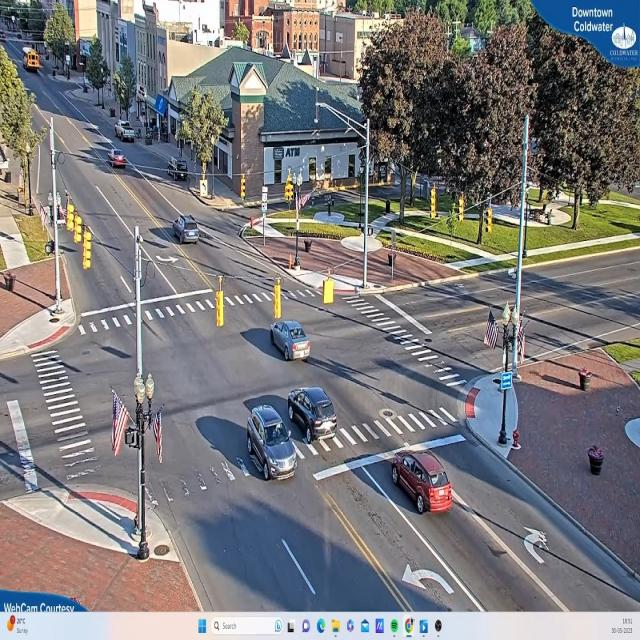car: (244, 399, 298, 480), (391, 452, 457, 516), (288, 387, 338, 442), (272, 320, 312, 362), (173, 216, 201, 244), (117, 121, 137, 145), (112, 153, 128, 168)
